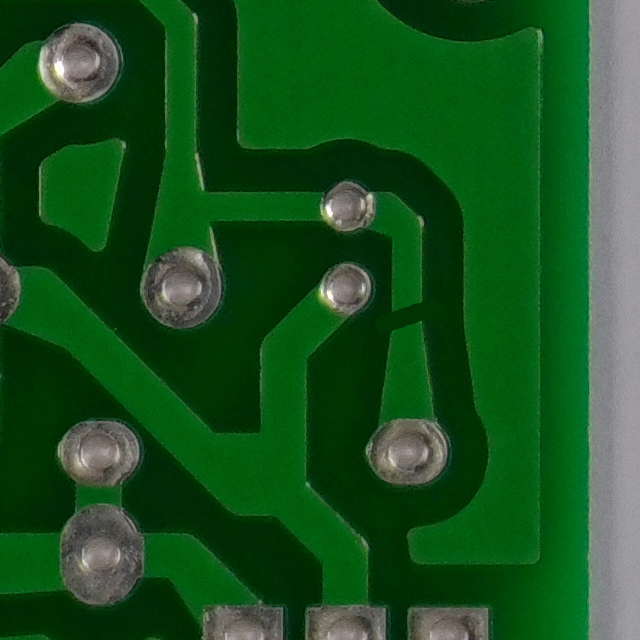open_circuit: (378, 295, 440, 345)
